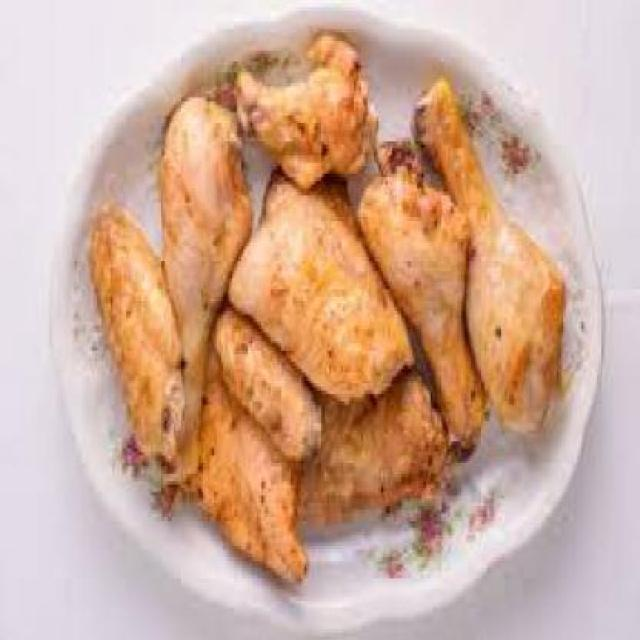Frango: (79, 51, 576, 586)
